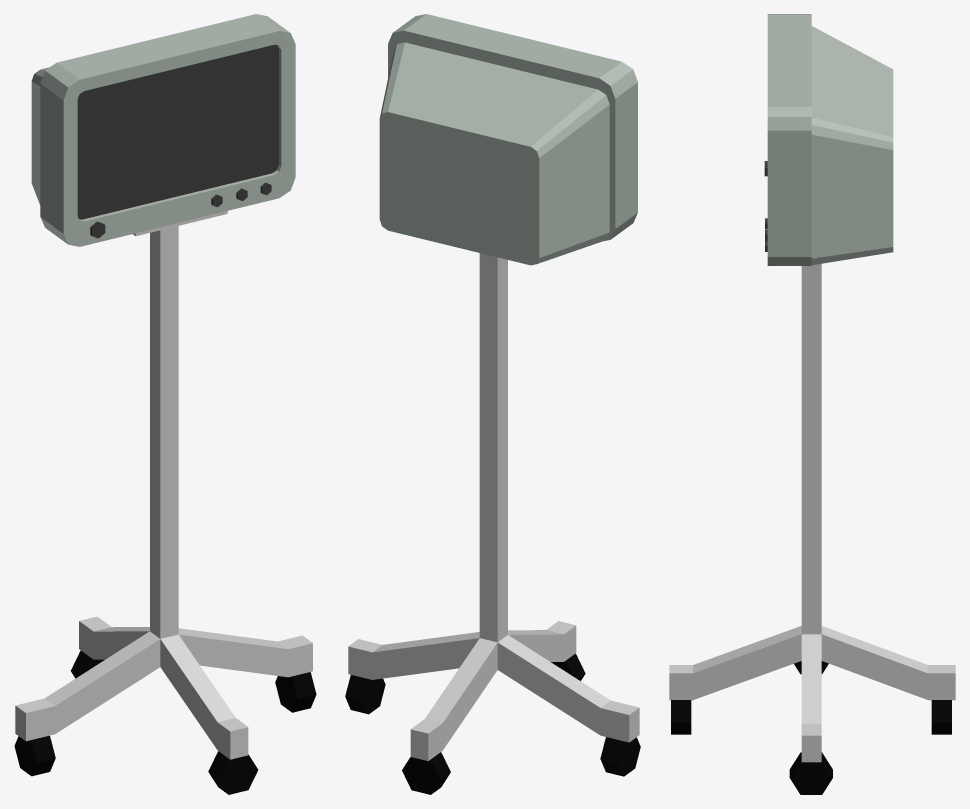
File: medical_equipment.fbx
3 renders of one model, left to right at view 1: azimuth 30°, elevation 25°; view 2: azimuth 150°, elevation 25°; view 3: azimuth 270°, elevation 25°, orthographic. The views are drawn at different scales.
Visible parts, largest first — view 1: H_Vital_Signs_Monitor; view 2: H_Vital_Signs_Monitor; view 3: H_Vital_Signs_Monitor.
Boxes of the visible parts, x1,y1,x2,y2 form: H_Vital_Signs_Monitor: (14,14,316,794); H_Vital_Signs_Monitor: (345,14,640,794); H_Vital_Signs_Monitor: (669,14,955,794).
Size of the model in its own units: 328 by 299 by 766.
